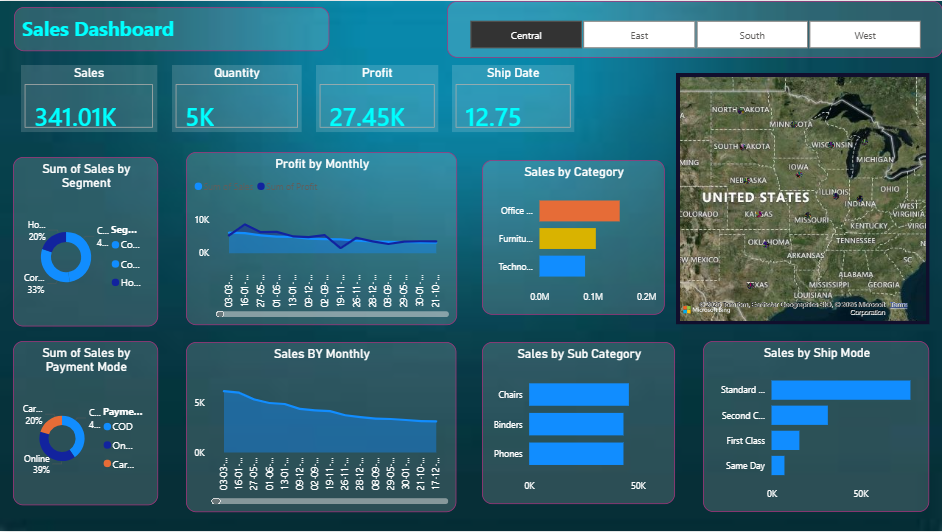

Layout of this report page (visuals, bound fields, positions):
{"tool":"powerbi","page":{"name":"Sales Dashboard","canvas":[1280,720],"ordinal":0},"visuals":[{"type":"clusteredBarChart","title":"Sales by Category","fields":{"Category":["SuperStore_Sales_Dataset.Category"],"Y":["Sum(SuperStore_Sales_Dataset.Sales)"]},"box":[654.8,215.4,248,209.8],"z":0},{"type":"clusteredBarChart","title":"Sales by Sub Category","fields":{"Category":["SuperStore_Sales_Dataset.Sub-Category"],"Y":["Sum(SuperStore_Sales_Dataset.Sales)"]},"box":[654.8,463.5,262.2,219.7],"z":1000},{"type":"clusteredBarChart","title":"Sales by Ship Mode","fields":{"Category":["SuperStore_Sales_Dataset.Ship Mode"],"Y":["Sum(SuperStore_Sales_Dataset.Sales)"]},"box":[954.1,461.9,307.4,231.8],"z":2000},{"type":"stackedAreaChart","title":"Profit  by Monthly","fields":{"Category":["SuperStore_Sales_Dataset.Order Date"],"Y":["Sum(SuperStore_Sales_Dataset.Sales)","Sum(SuperStore_Sales_Dataset.Profit)"]},"box":[252,204.9,367.9,235.2],"z":3000},{"type":"stackedAreaChart","title":"Sales BY Monthly","fields":{"Category":["SuperStore_Sales_Dataset.Order Date"],"Y":["Sum(SuperStore_Sales_Dataset.Sales)"]},"box":[252.3,463.5,367.1,231],"z":4000},{"type":"donutChart","fields":{"Category":["SuperStore_Sales_Dataset.Segment"],"Y":["Sum(SuperStore_Sales_Dataset.Sales)"]},"box":[17,211.2,197,229.6],"z":5000},{"type":"donutChart","fields":{"Category":["SuperStore_Sales_Dataset.Payment Mode"],"Y":["Sum(SuperStore_Sales_Dataset.Sales)"]},"box":[17,462,197,222.5],"z":6000},{"type":"slicer","fields":{"Values":["SuperStore_Sales_Dataset.Region"]},"box":[606.6,0,673.2,76.5],"z":7000},{"type":"textbox","box":[18.5,8.4,428.3,60.5],"z":8000},{"type":"map","fields":{"Category":["SuperStore_Sales_Dataset.State"],"Series":["SuperStore_Sales_Dataset.Sales"]},"box":[917.2,97.4,344.4,341],"z":9000},{"type":"cardVisual","title":"Sales","fields":{"Data":["Sum(SuperStore_Sales_Dataset.Sales)"]},"box":[28.6,87.3,184.8,90.7],"z":10000},{"type":"cardVisual","title":"Quantity","fields":{"Data":["Sum(SuperStore_Sales_Dataset.Quantity)"]},"box":[233.5,87.3,176.4,90.7],"z":10001},{"type":"cardVisual","title":"Profit","fields":{"Data":["Sum(SuperStore_Sales_Dataset.Profit)"]},"box":[428.3,87.3,166.3,90.7],"z":10002},{"type":"cardVisual","title":"Ship Date","fields":{"Data":["Avg(SuperStore_Sales_Dataset.AvgDeliverey)"]},"box":[613.1,87.3,166.3,90.7],"z":10003}]}

Visuals, with their boxes in screenshot pixels (x1, y1, x2, y2), scaled from the page's 1280x720 canvas onto the 942x532 screenshot:
"Sales by Category" clusteredBarChart: Rect(482, 159, 664, 314)
"Sales by Sub Category" clusteredBarChart: Rect(482, 342, 675, 505)
"Sales by Ship Mode" clusteredBarChart: Rect(702, 341, 928, 513)
"Profit  by Monthly" stackedAreaChart: Rect(185, 151, 456, 325)
"Sales BY Monthly" stackedAreaChart: Rect(186, 342, 456, 513)
donutChart - SuperStore_Sales_Dataset.Segment x Sum(SuperStore_Sales_Dataset.Sales): Rect(13, 156, 157, 326)
donutChart - SuperStore_Sales_Dataset.Payment Mode x Sum(SuperStore_Sales_Dataset.Sales): Rect(13, 341, 157, 506)
slicer - SuperStore_Sales_Dataset.Region: Rect(446, 0, 941, 57)
textbox: Rect(14, 6, 329, 51)
map - SuperStore_Sales_Dataset.State x SuperStore_Sales_Dataset.Sales: Rect(675, 72, 928, 324)
"Sales" cardVisual: Rect(21, 65, 157, 132)
"Quantity" cardVisual: Rect(172, 65, 302, 132)
"Profit" cardVisual: Rect(315, 65, 438, 132)
"Ship Date" cardVisual: Rect(451, 65, 574, 132)
